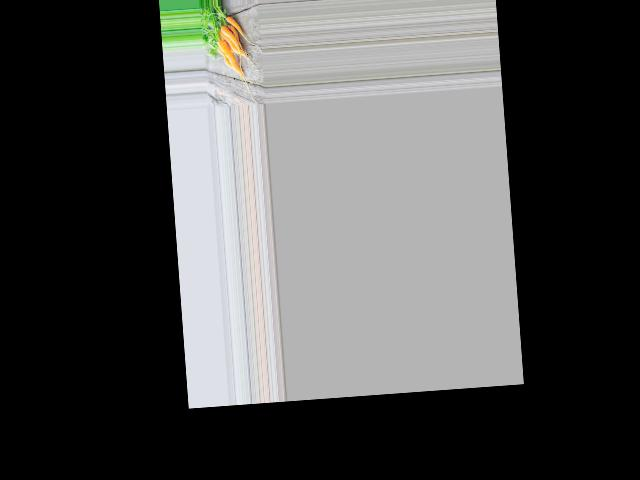carrot: (216, 34, 241, 75)
